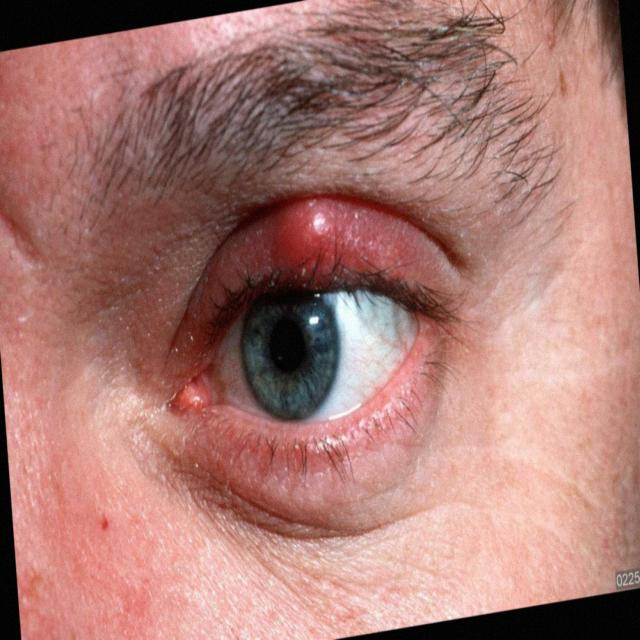Chalazion: (159, 184, 467, 503)
